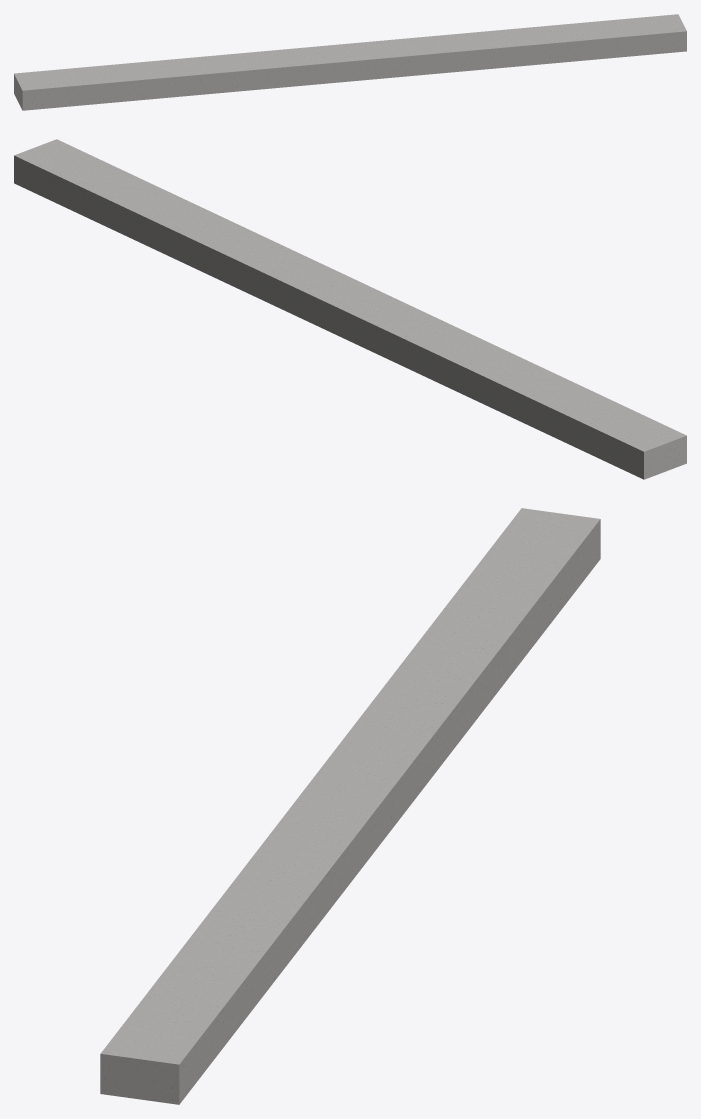
The model's file is kd_stage_1366d7_4_3.glb.
3 renders of one model, top to bottom at view 1: azimuth 30°, elevation 25°; view 2: azimuth 150°, elevation 25°; view 3: azimuth 270°, elevation 25°, orthographic. The views are drawn at different scales.
Visible parts, largest first — view 1: kd_stage_1366d7_4_3; view 2: kd_stage_1366d7_4_3; view 3: kd_stage_1366d7_4_3.
Boxes of the visible parts, box(x1,y1,x2,y2) form: kd_stage_1366d7_4_3: box(14, 14, 686, 110); kd_stage_1366d7_4_3: box(14, 139, 686, 479); kd_stage_1366d7_4_3: box(100, 508, 600, 1104).
Bounding box in the file's own units: 150 × 5.06 × 56.98.
Materials: 1 (1 with a texture image).
